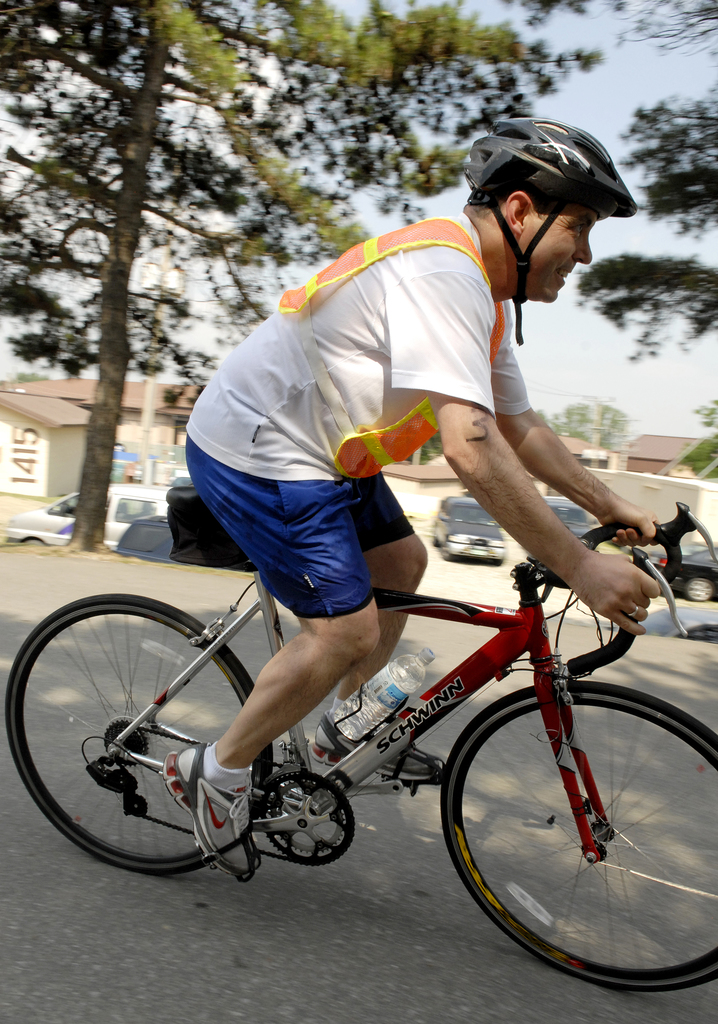Bike: (82, 464, 640, 941)
